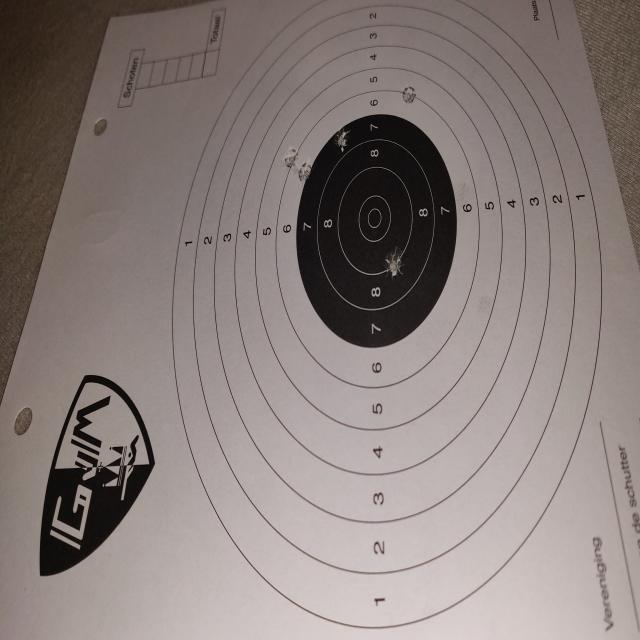6: (284, 144, 300, 173), (401, 78, 417, 104)
7: (334, 122, 349, 150), (298, 162, 314, 183)
9: (386, 247, 404, 280)
Target: (172, 0, 608, 631)
black_contour: (296, 112, 458, 348)
